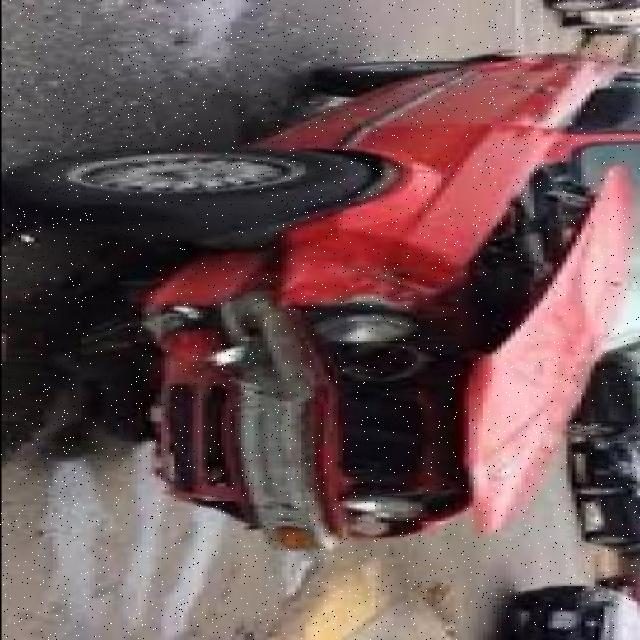damage: (156, 162, 630, 530)
